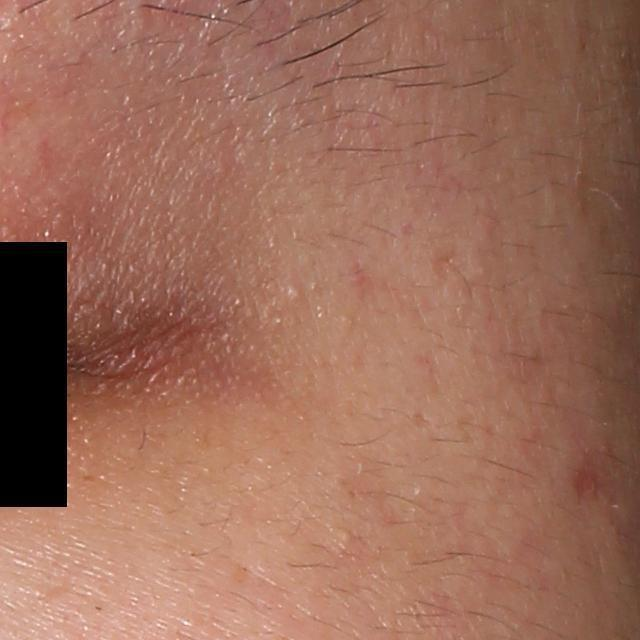comedo: (284, 284, 303, 304), (338, 528, 351, 545)
